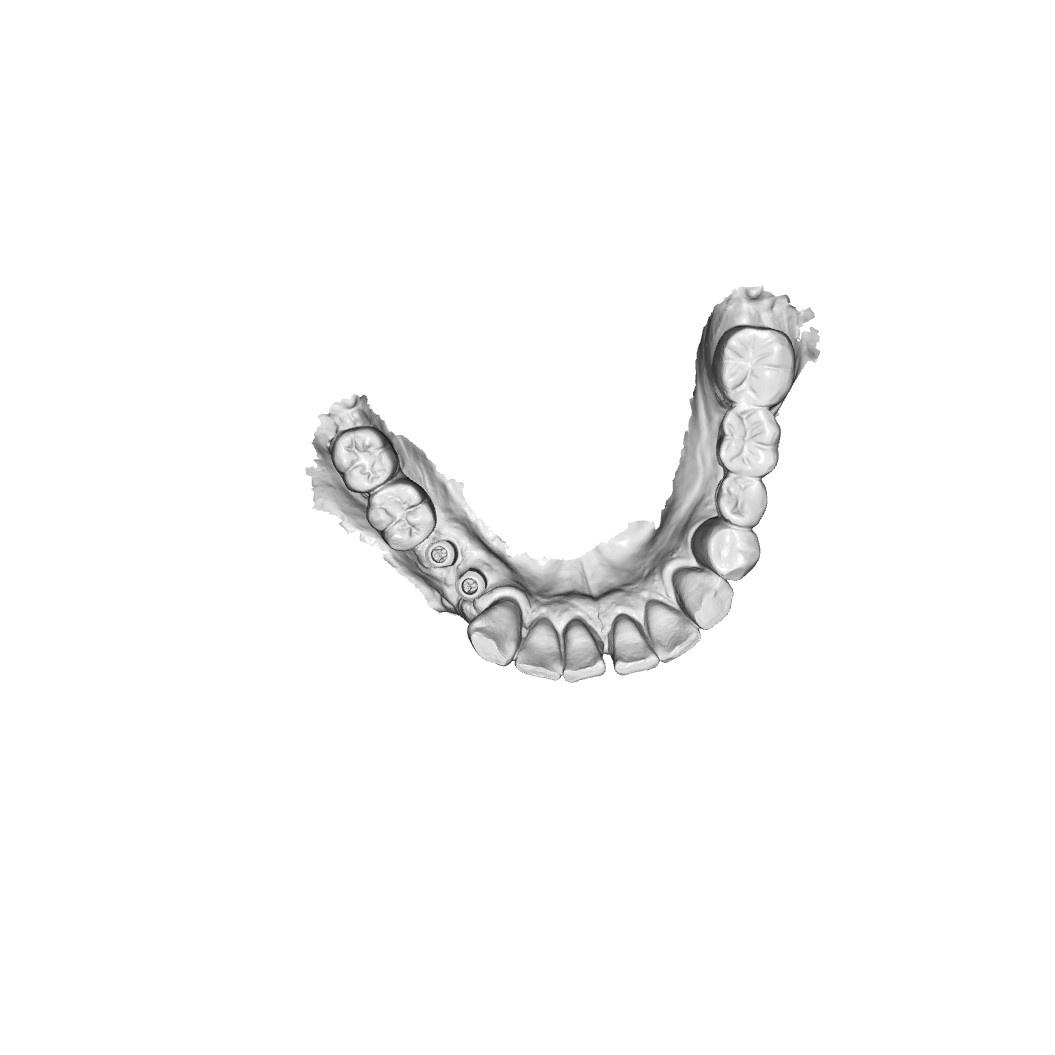canine: (670, 565, 736, 632), (464, 596, 523, 667)
implant: (455, 570, 494, 605), (427, 537, 460, 570)
incisor: (513, 611, 565, 685), (645, 600, 701, 666), (610, 614, 659, 679), (561, 619, 607, 685)
molar: (715, 325, 800, 410), (366, 478, 437, 551), (329, 423, 399, 495), (715, 406, 783, 478)
premolar: (690, 517, 762, 581), (712, 472, 772, 529)
